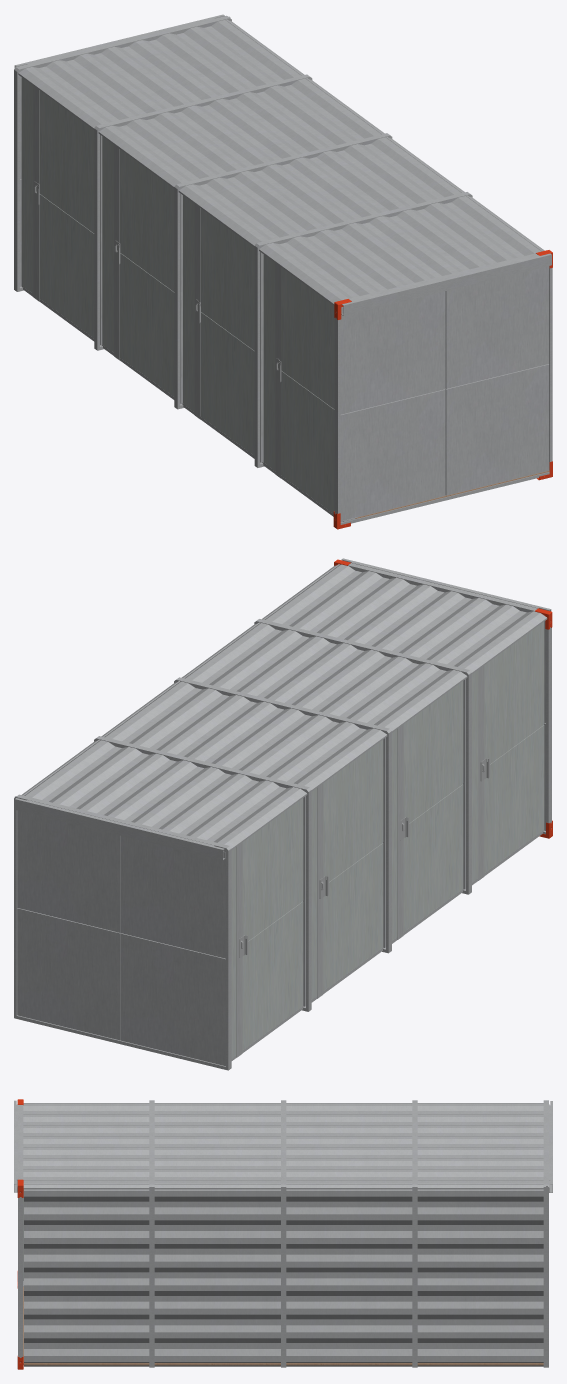
The model's file is 12S4_closed.glb.
3 renders of one model, top to bottom at view 1: azimuth 30°, elevation 25°; view 2: azimuth 150°, elevation 25°; view 3: azimuth 270°, elevation 25°, orthographic. The views are drawn at different scales.
Visible parts, largest first — view 1: celing, closedDoors, Cube.001, frontRim, gutter, Wall, floor.001, back, floor; view 2: celing, closedDoors, Cube, frontRim, gutter.001, Wall, floor, back, gutter; view 3: back, celing, frontRim, floor.002, gutter, gutter.001.
Boxes of the visible parts, box(x1,y1,x2,y2) form: celing: box(18, 20, 544, 305); closedDoors: box(21, 77, 334, 513); Cube.001: box(340, 266, 549, 522); frontRim: box(14, 15, 552, 524); gutter: box(341, 253, 551, 315); Wall: box(100, 135, 263, 462); floor.001: box(22, 286, 357, 521); back: box(226, 19, 542, 251); floor: box(22, 286, 357, 521); celing: box(22, 564, 547, 849); closedDoors: box(231, 622, 544, 1057); Cube: box(14, 796, 225, 1065); frontRim: box(14, 563, 551, 1070); gutter.001: box(14, 798, 225, 860); Wall: box(303, 679, 465, 1006); floor: box(231, 830, 544, 1060); back: box(23, 564, 340, 795); gutter: box(341, 558, 551, 611); back: box(24, 1183, 543, 1366); celing: box(23, 1103, 543, 1189); frontRim: box(18, 1100, 548, 1367); floor.002: box(23, 1286, 543, 1365); gutter: box(14, 1100, 17, 1192); gutter.001: box(549, 1101, 552, 1192).
Size of the model in its own units: 23.18 by 23.06 by 61.09.
8 materials, 7 textured.
